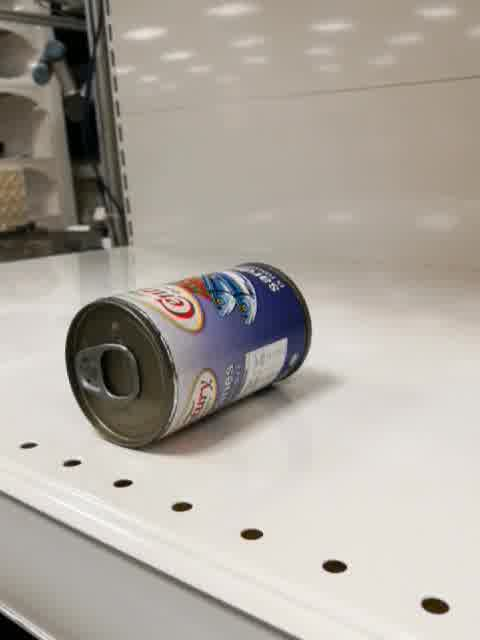sardine: (65, 263, 312, 449)
